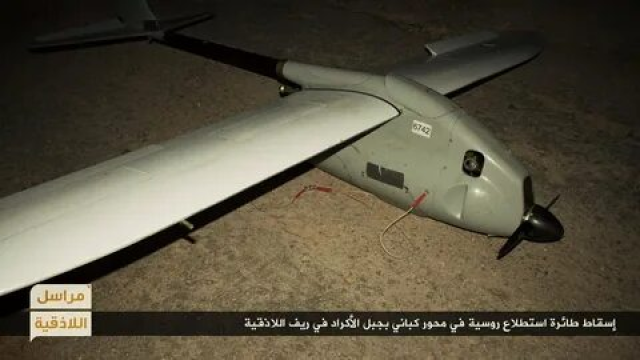military drone: (0, 0, 565, 297)
